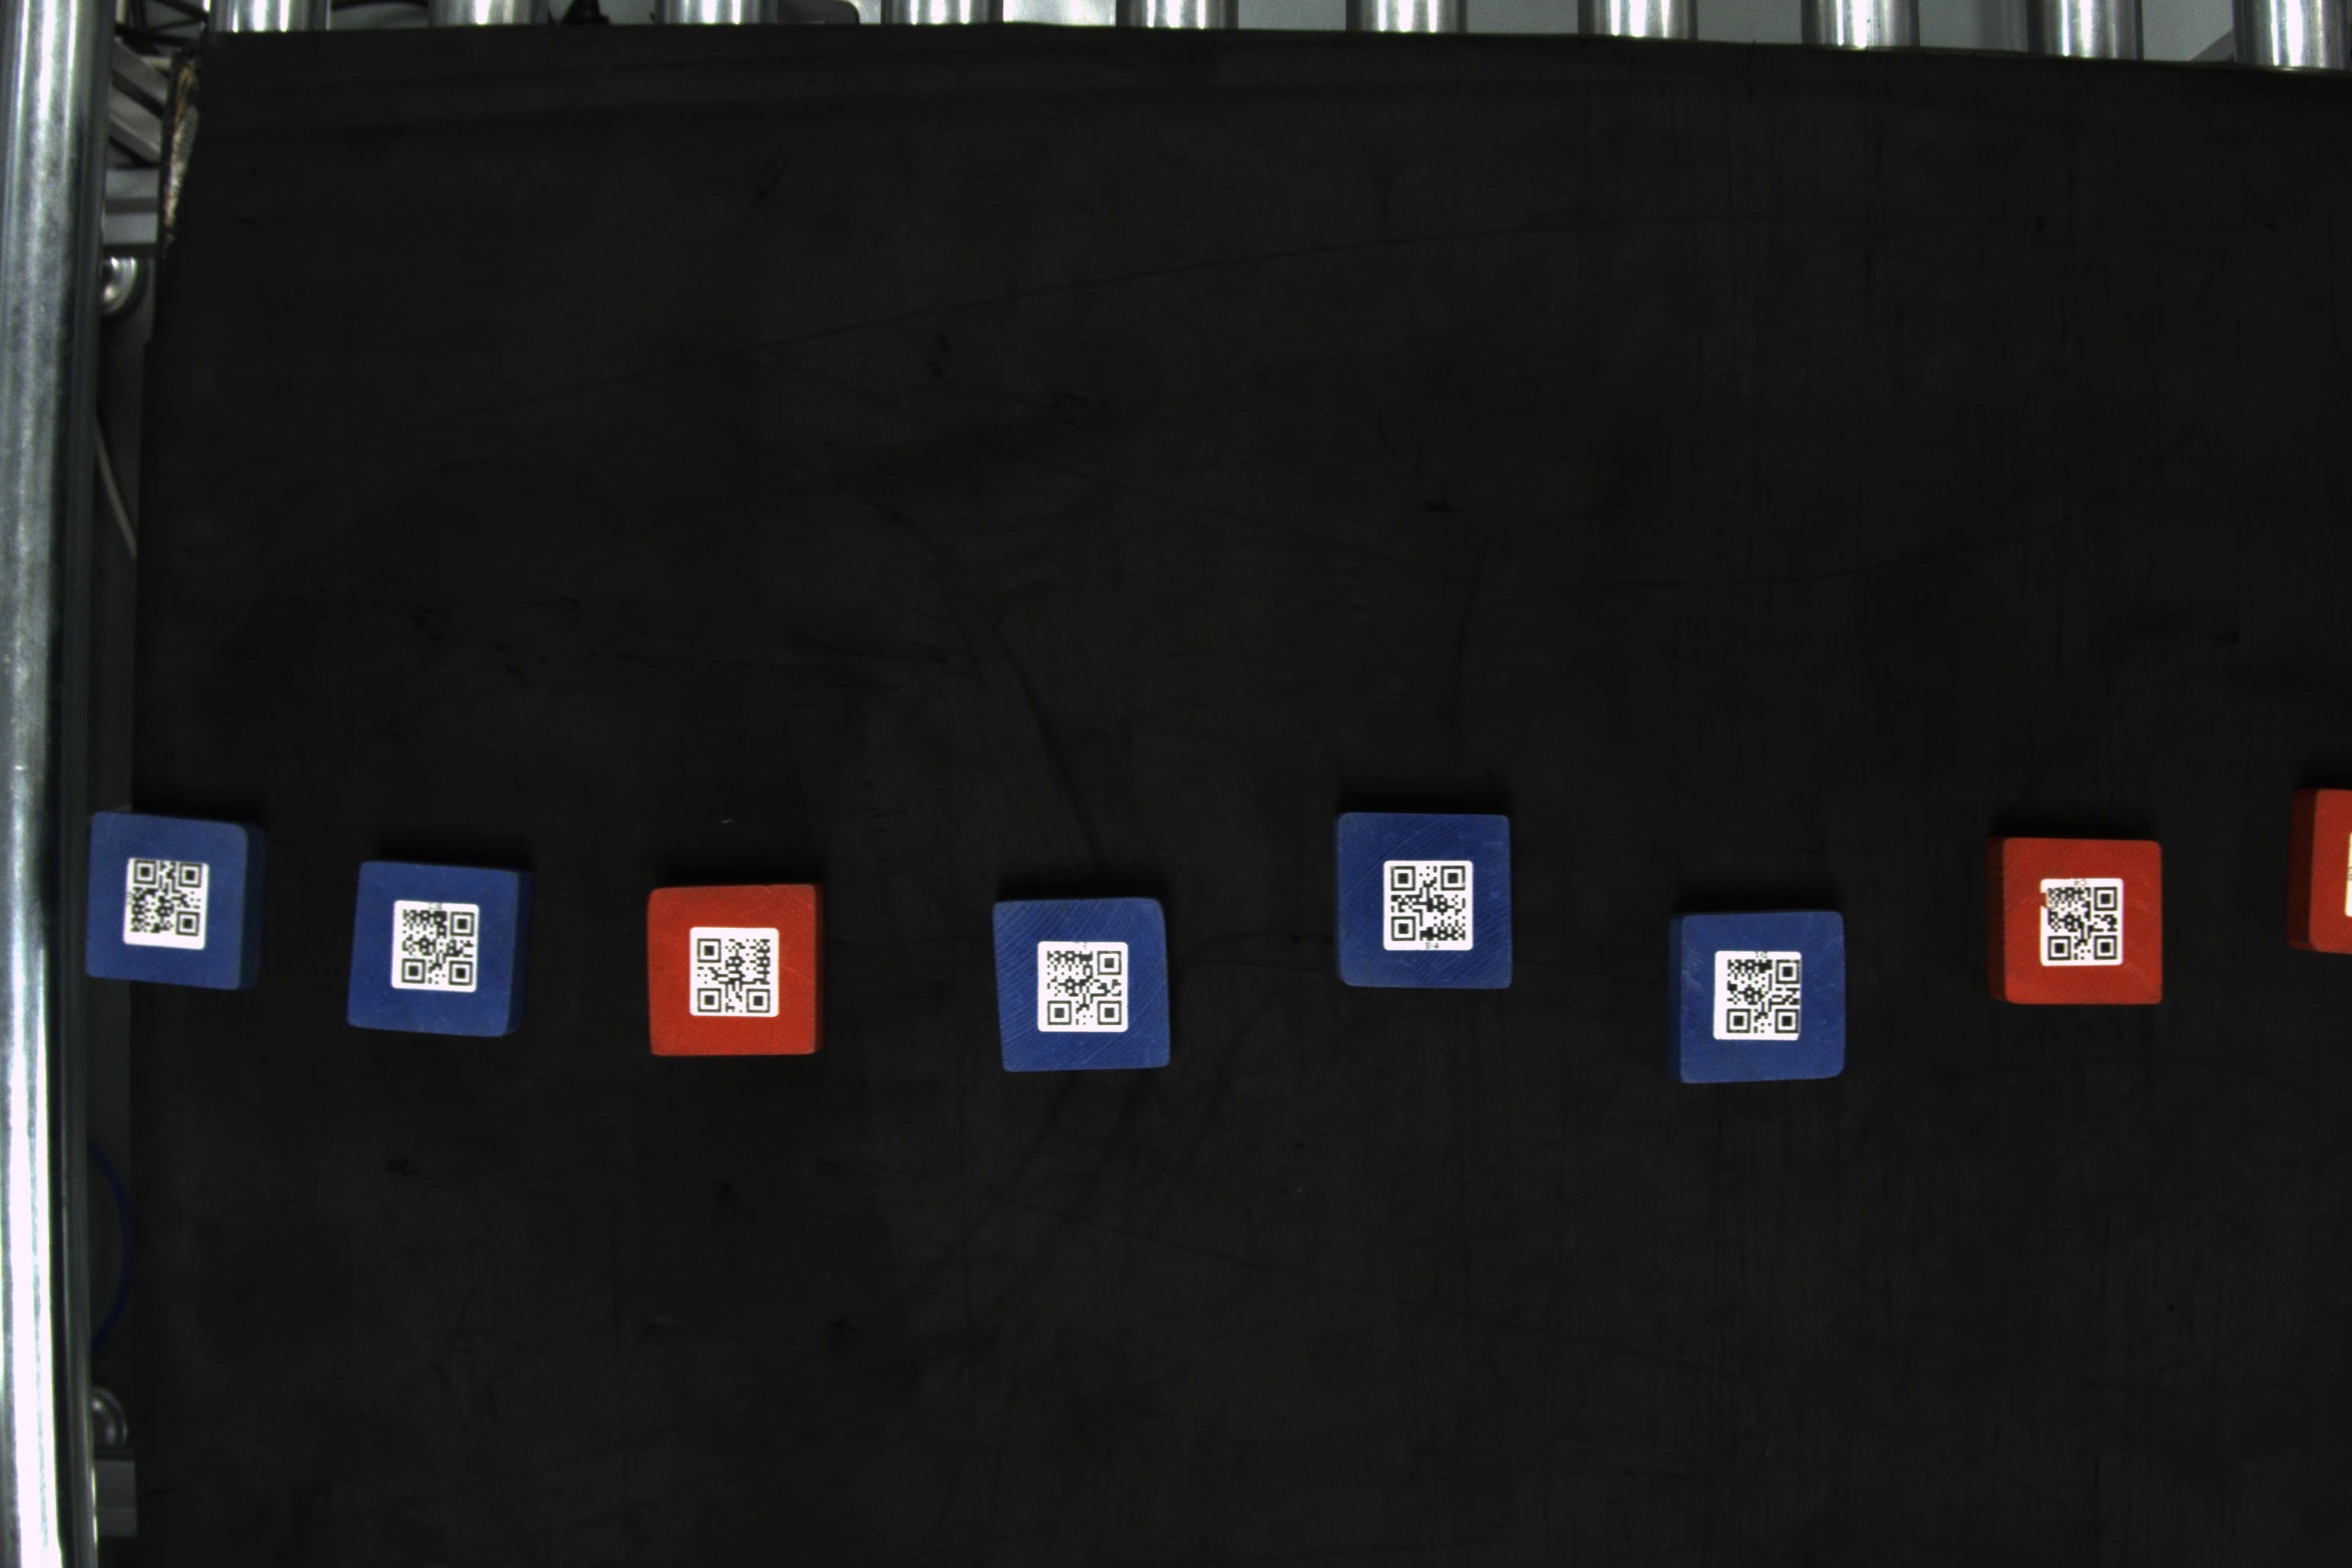wood: (346, 852, 534, 1045), (80, 807, 266, 1001), (1332, 810, 1521, 992), (987, 894, 1174, 1074), (642, 885, 828, 1062), (1986, 835, 2172, 1011), (1666, 910, 1853, 1083), (2282, 779, 2347, 955)
